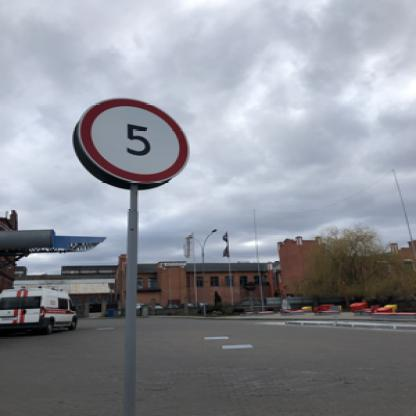speedlimit: (75, 96, 187, 182)
